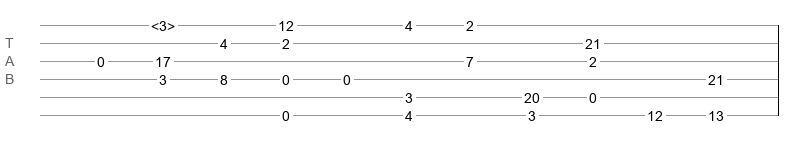0: (97, 54, 105, 64), (282, 108, 290, 118), (282, 72, 290, 82), (343, 72, 351, 82), (589, 90, 597, 100)
12: (278, 18, 294, 28), (647, 108, 663, 118)
13: (708, 108, 724, 118)
17: (155, 54, 171, 64)
2: (282, 36, 290, 46), (466, 18, 474, 28), (589, 54, 597, 64)
20: (524, 90, 540, 100)
21: (585, 36, 601, 46), (708, 72, 724, 82)
3: (159, 72, 167, 82), (405, 90, 413, 100), (528, 108, 536, 118)
4: (220, 36, 228, 46), (405, 18, 413, 28), (405, 108, 413, 118)
7: (466, 54, 474, 64)
8: (220, 72, 228, 82)
harmonic: (151, 18, 175, 28)
